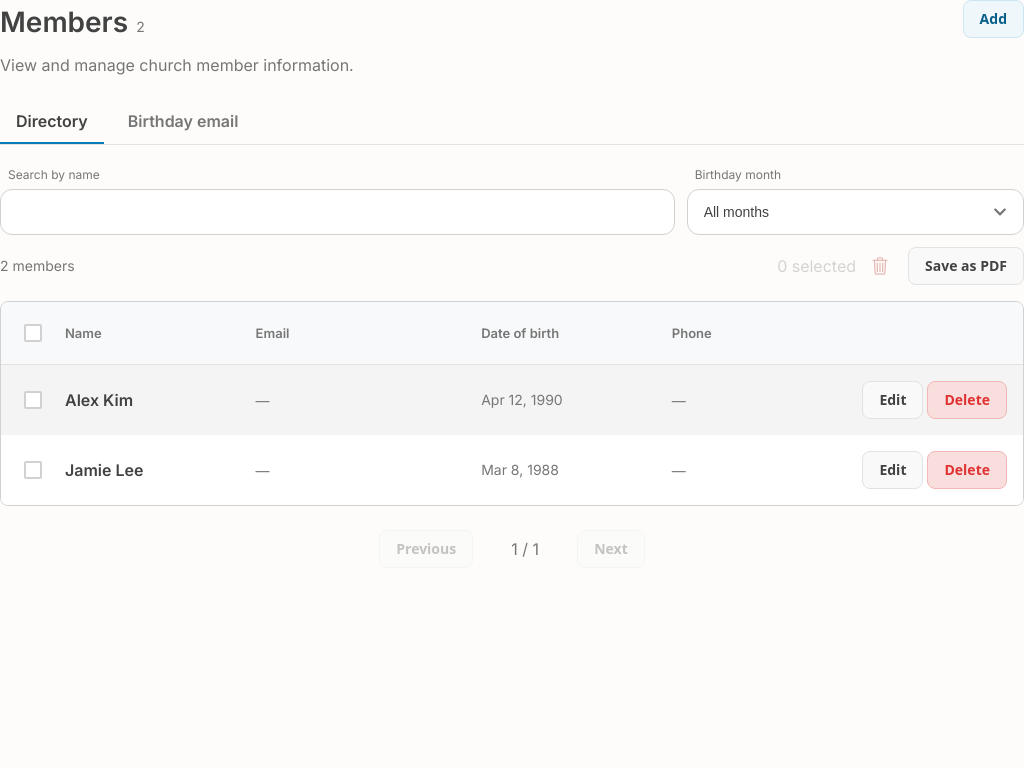
Members add dialog validation › selects and confirms deletion of multiple members
Later steps or results of the test are not shown.
Expected: the button named "Delete 0 selected items" is disabled, [864,250,896,282]
Click the checkbox named "Select all members" at coordinates (33, 333), box [24,324,42,342]
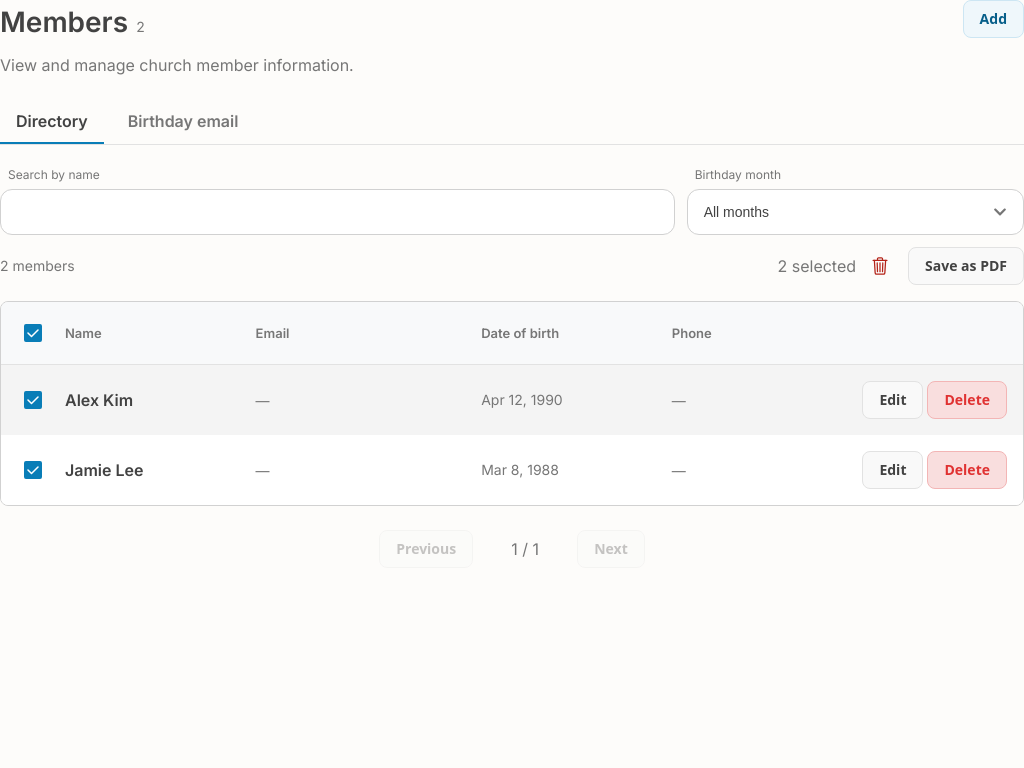
Click the button named "Delete 2 selected items" at coordinates (880, 266), box [864,250,896,282]
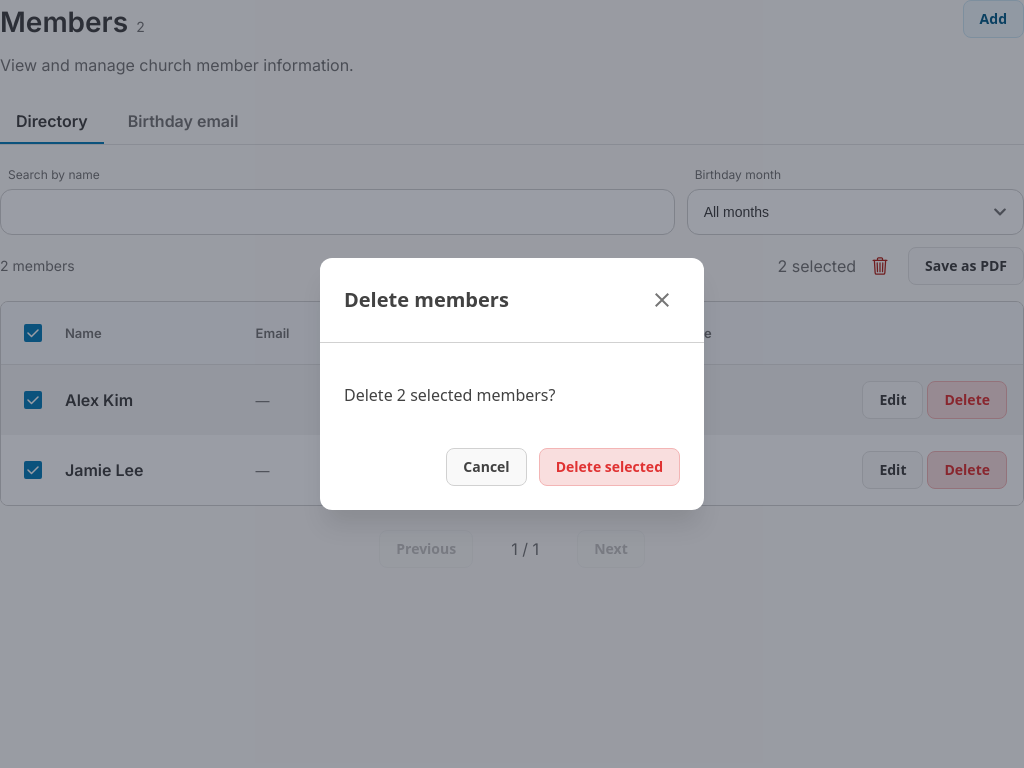
Now the heading "Delete members" is shown, box [344,284,509,316]
